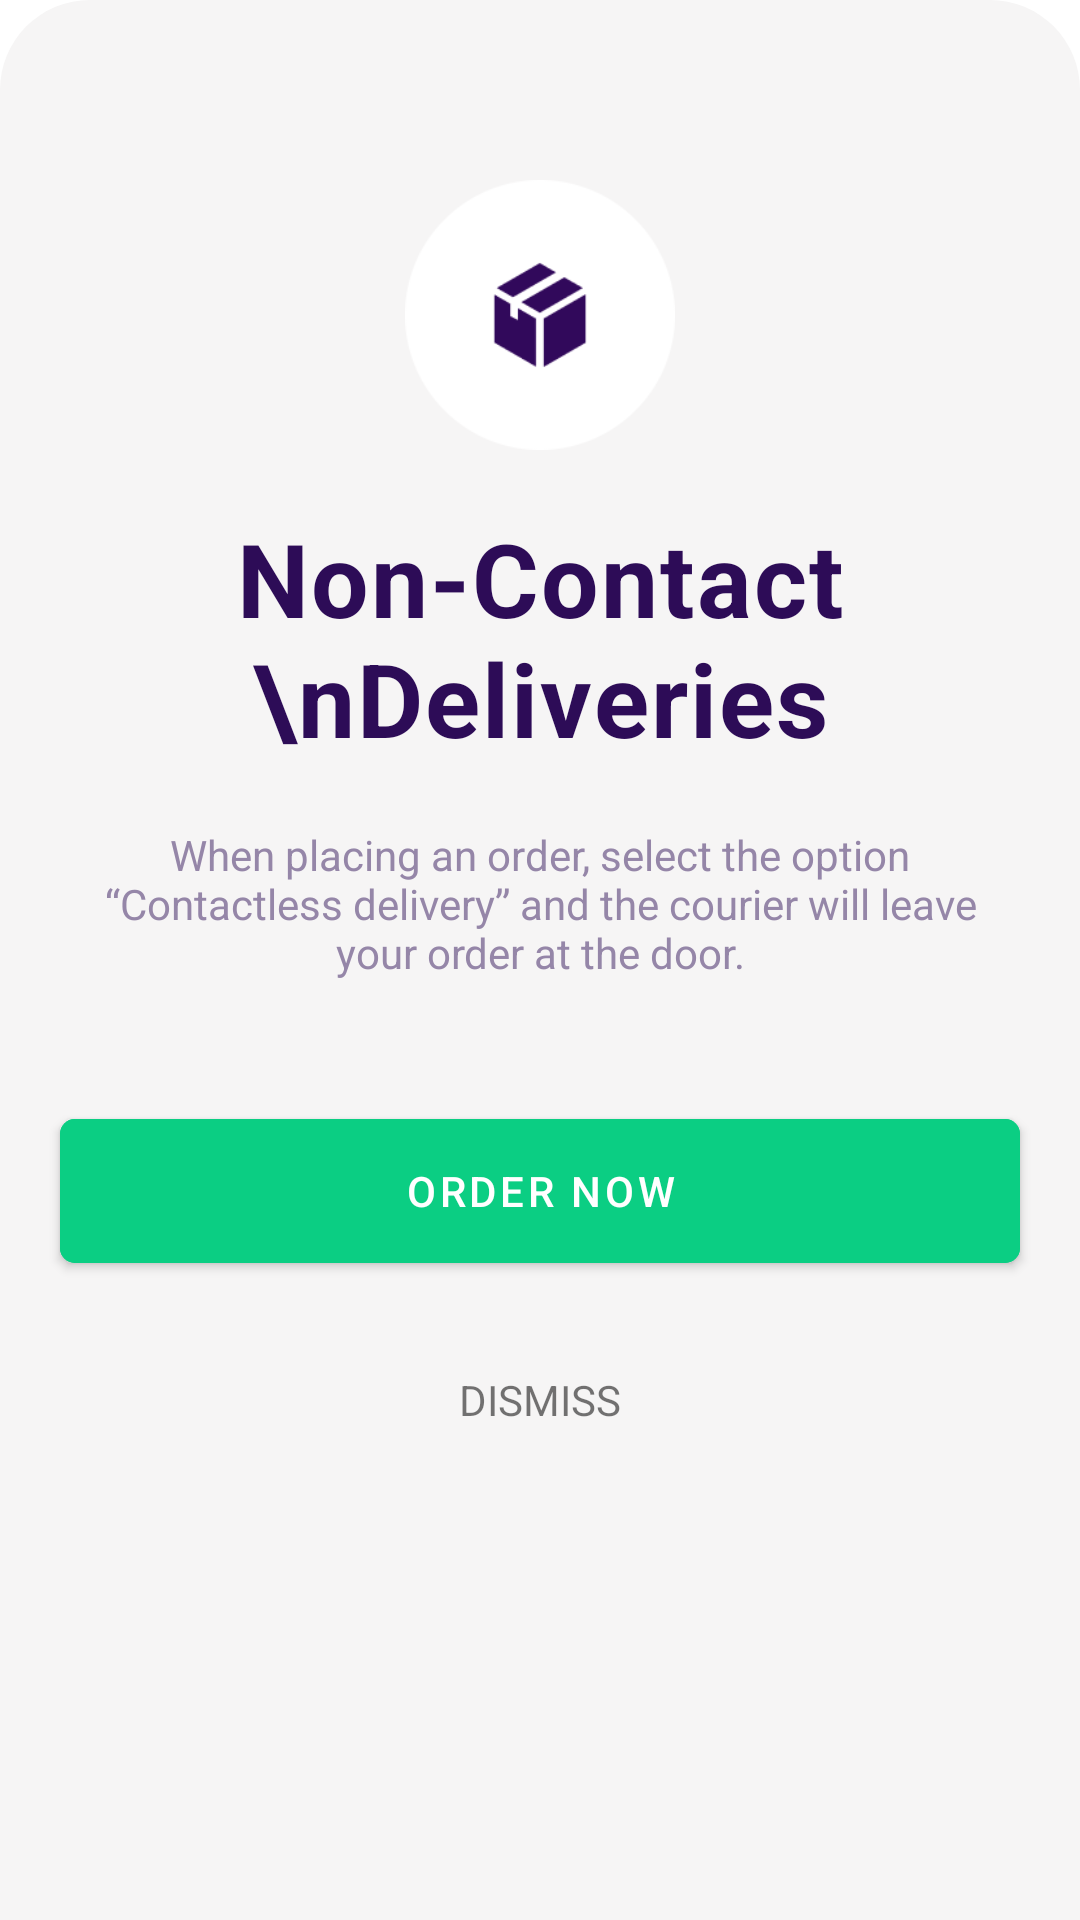

Where to tap for icons on this 1080 x 1920 app screen, as [x,y]:
delivery: [540,315]
